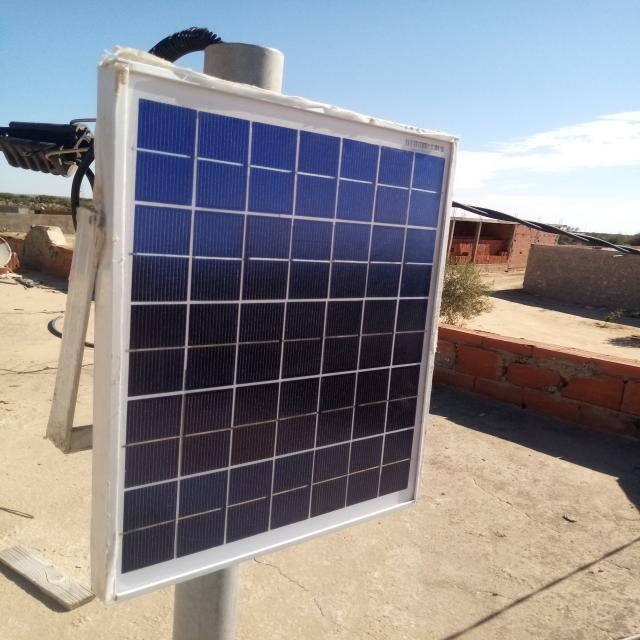Normal Solar Panel: (111, 63, 457, 600)
